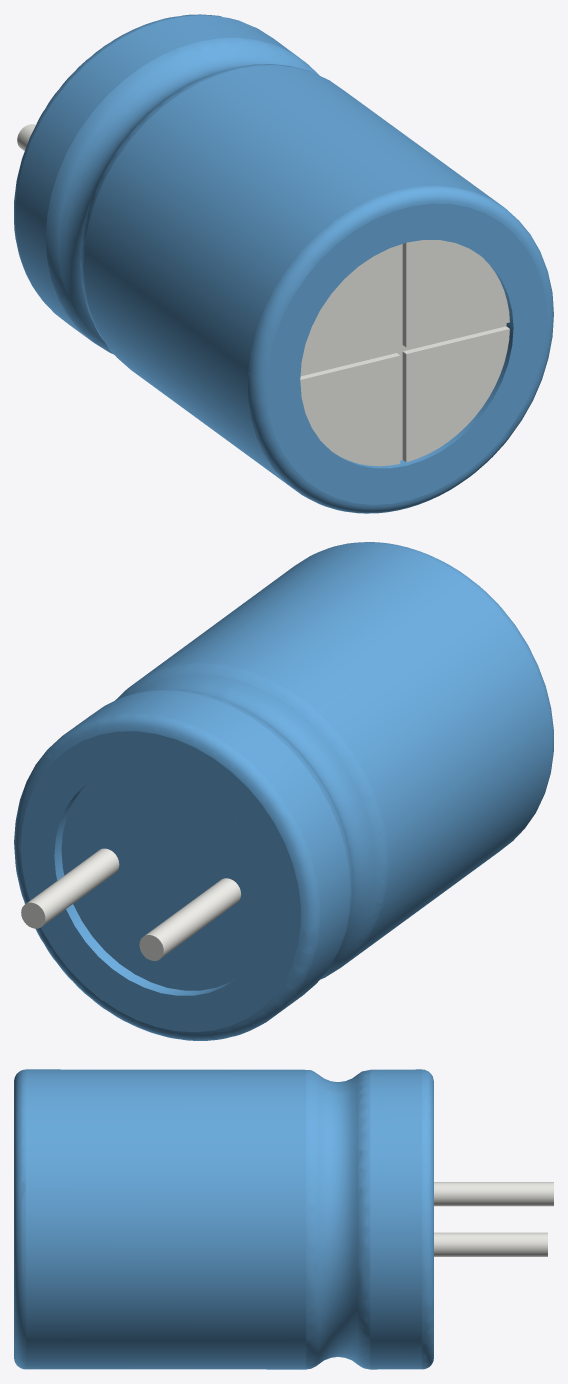
File: C_Radial_D5.0mm_H7.0mm_P2.00mm.glb
The picture shows the model from 3 angles, top to bottom: view 1: azimuth 30°, elevation 25°; view 2: azimuth 150°, elevation 25°; view 3: azimuth 270°, elevation 25°; orthographic projection. The views are drawn at different scales.
Visible parts, largest first — view 1: Shape_IndexedFaceSet.012, Shape_IndexedFaceSet.014, Shape_IndexedFaceSet.008, Shape_IndexedFaceSet.013, Shape_IndexedFaceSet.010, Shape_IndexedFaceSet.018, Shape_IndexedFaceSet.021, Shape_IndexedFaceSet.027, Shape_IndexedFaceSet.024, Shape_IndexedFaceSet.009, Shape_IndexedFaceSet.011, Shape_IndexedFaceSet.016 (+2 smaller); view 2: Shape_IndexedFaceSet.012, Shape_IndexedFaceSet.002, Shape_IndexedFaceSet.005, Shape_IndexedFaceSet.008, Shape_IndexedFaceSet.007, Shape_IndexedFaceSet.010, Shape_IndexedFaceSet.011, Shape_IndexedFaceSet.004, Shape_IndexedFaceSet.001, Shape_IndexedFaceSet.003, Shape_IndexedFaceSet.009, Shape_IndexedFaceSet.013; view 3: Shape_IndexedFaceSet.012, Shape_IndexedFaceSet.008, Shape_IndexedFaceSet.010, Shape_IndexedFaceSet.009, Shape_IndexedFaceSet.011, Shape_IndexedFaceSet.013, Shape_IndexedFaceSet.007, Shape_IndexedFaceSet.004, Shape_IndexedFaceSet.001.
Boxes of the visible parts, x1,y1,x2,y2 form: Shape_IndexedFaceSet.012: (83,65,503,491); Shape_IndexedFaceSet.014: (267,203,546,504); Shape_IndexedFaceSet.008: (15,15,304,340); Shape_IndexedFaceSet.013: (248,185,553,513); Shape_IndexedFaceSet.010: (58,48,307,344); Shape_IndexedFaceSet.018: (406,329,509,462); Shape_IndexedFaceSet.021: (300,355,400,466); Shape_IndexedFaceSet.027: (406,240,509,347); Shape_IndexedFaceSet.024: (301,245,400,373); Shape_IndexedFaceSet.009: (45,37,319,354); Shape_IndexedFaceSet.011: (80,64,310,354); Shape_IndexedFaceSet.016: (300,244,506,460); Shape_IndexedFaceSet.012: (133,543,551,966); Shape_IndexedFaceSet.002: (61,767,267,990); Shape_IndexedFaceSet.005: (21,731,300,1032); Shape_IndexedFaceSet.008: (64,690,350,1018); Shape_IndexedFaceSet.007: (14,713,319,1040); Shape_IndexedFaceSet.010: (127,673,375,969); Shape_IndexedFaceSet.011: (115,663,388,979); Shape_IndexedFaceSet.004: (145,878,241,957); Shape_IndexedFaceSet.001: (27,848,119,925); Shape_IndexedFaceSet.003: (54,782,236,995); Shape_IndexedFaceSet.009: (114,689,353,987); Shape_IndexedFaceSet.013: (313,542,553,834); Shape_IndexedFaceSet.012: (26,1069,305,1369); Shape_IndexedFaceSet.008: (370,1069,421,1369); Shape_IndexedFaceSet.010: (318,1074,357,1364); Shape_IndexedFaceSet.009: (358,1070,370,1369); Shape_IndexedFaceSet.011: (306,1070,318,1369); Shape_IndexedFaceSet.013: (14,1069,25,1369); Shape_IndexedFaceSet.007: (422,1069,433,1369); Shape_IndexedFaceSet.004: (434,1182,553,1206); Shape_IndexedFaceSet.001: (434,1232,547,1256).
Size of the model in its own units: 1.97 by 1.97 by 3.54.
